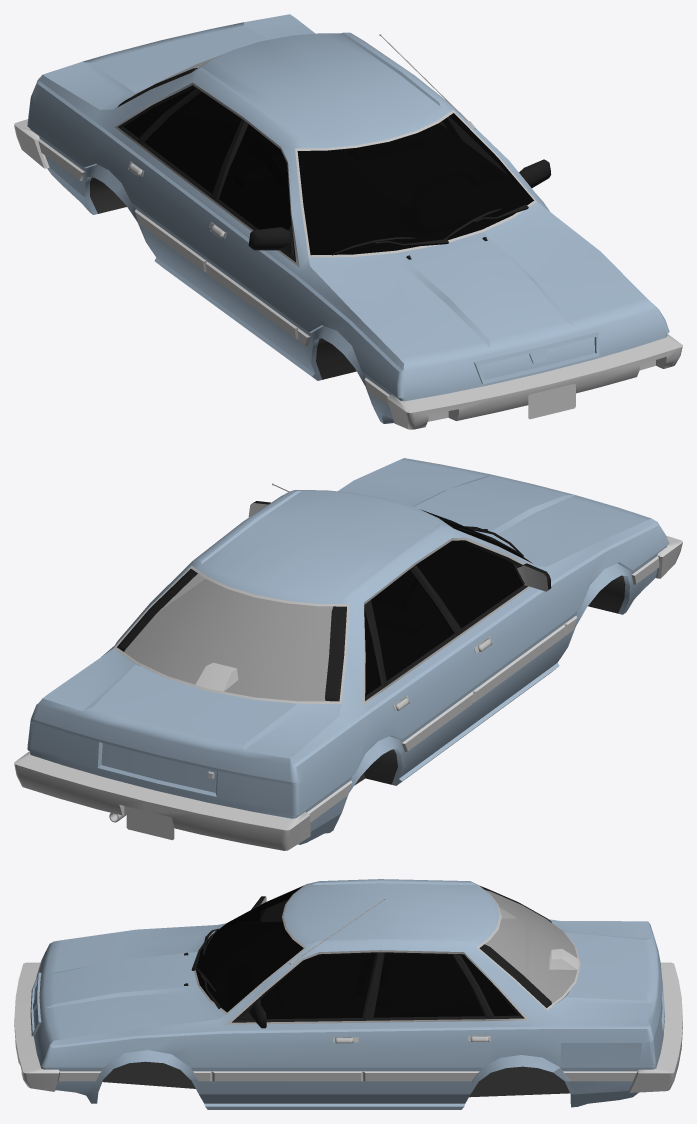
File: car.obj
3 views of the same model, one above another, from view 1: azimuth 30°, elevation 25°; view 2: azimuth 150°, elevation 25°; view 3: azimuth 270°, elevation 25° (orthographic). The views are drawn at different scales.
Visible parts, largest first — view 1: _Subaru-Loyale, _Subaru-Loyale.004; view 2: _Subaru-Loyale; view 3: _Subaru-Loyale, _Subaru-Loyale.004.
Part boxes in pixels (<box>): _Subaru-Loyale: <box>14,14,682,429</box>; _Subaru-Loyale.004: <box>42,153,126,213</box>; _Subaru-Loyale: <box>14,458,682,850</box>; _Subaru-Loyale: <box>14,879,682,1109</box>; _Subaru-Loyale.004: <box>469,991,655,1107</box>.
Size of the model in its own units: 1.57 by 1.14 by 3.7.
